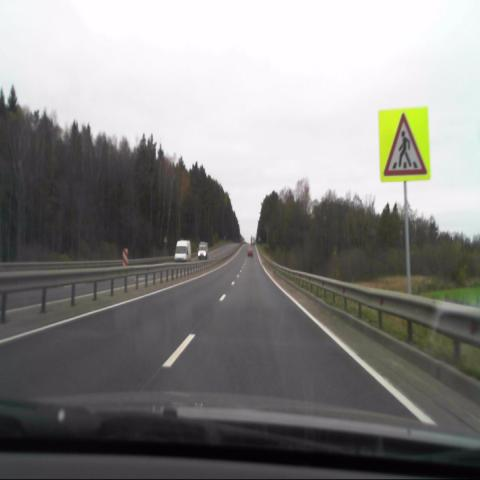1_22: (378, 106, 428, 181)
